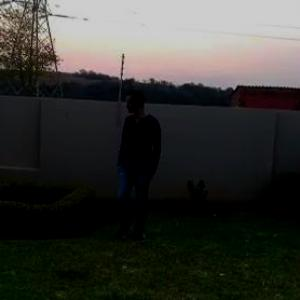follow: (108, 84, 159, 260)
